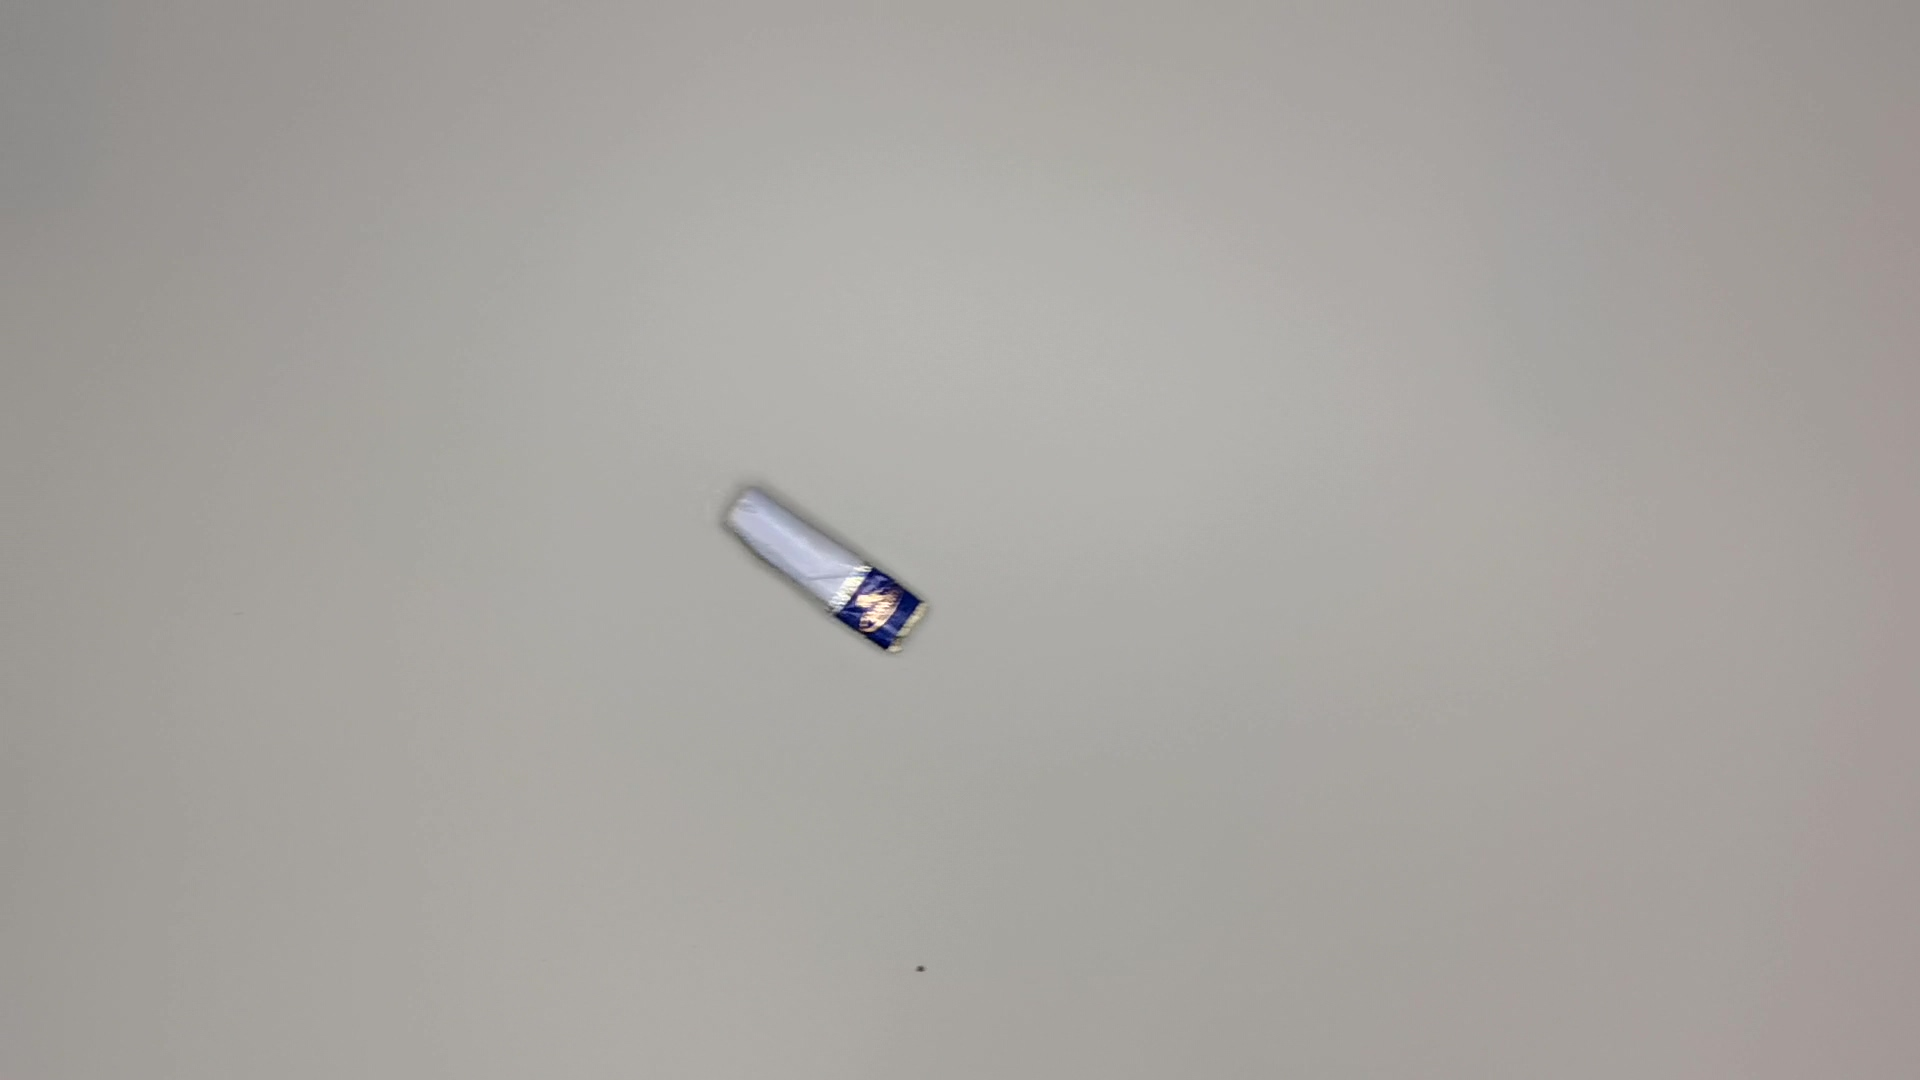cigarette: (707, 479, 938, 658)
